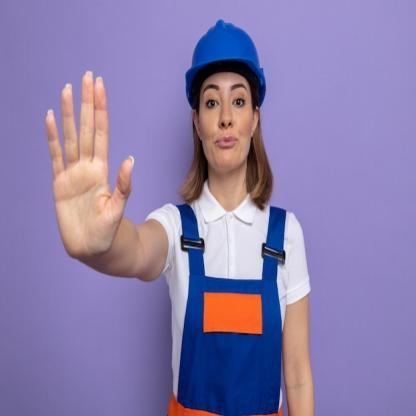stop: (44, 66, 136, 260)
